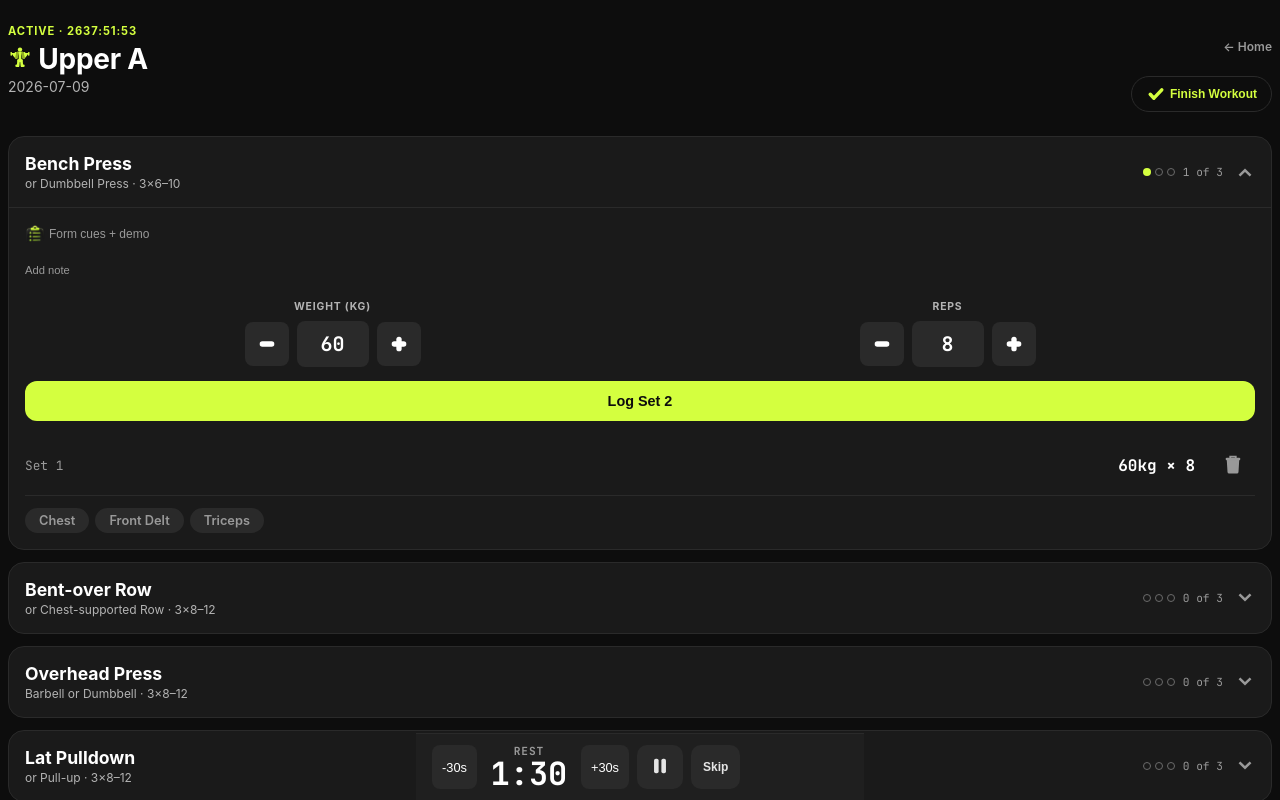
Workout page › renders a first-entry baseline quietly, with no PR fanfare
This screenshot has width=1280, height=800.
Expected: the text "Bench Press" is shown, [25,153,132,174]
Click the button "Finish Workout" at (1201, 94), box [1131,76,1272,112]
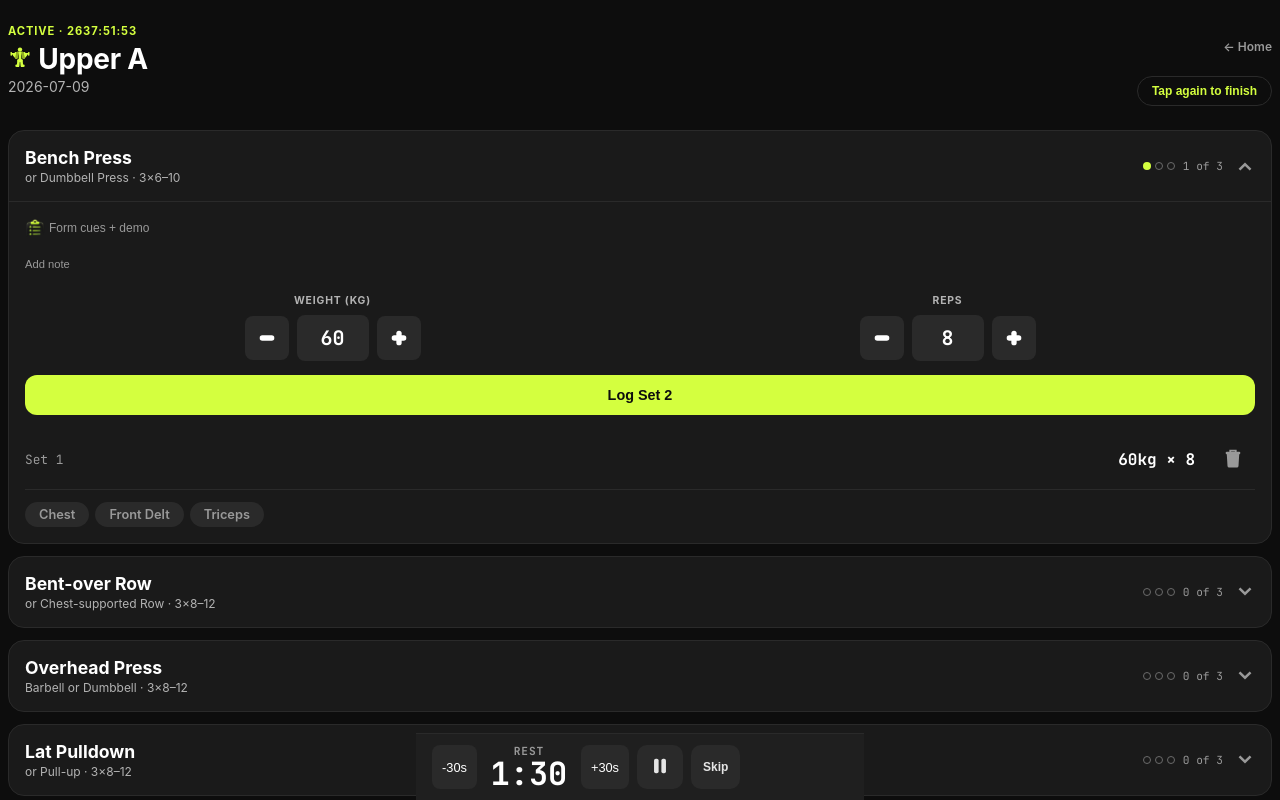
Click the button "Tap again to finish" at (1204, 91), box [1137,76,1272,106]
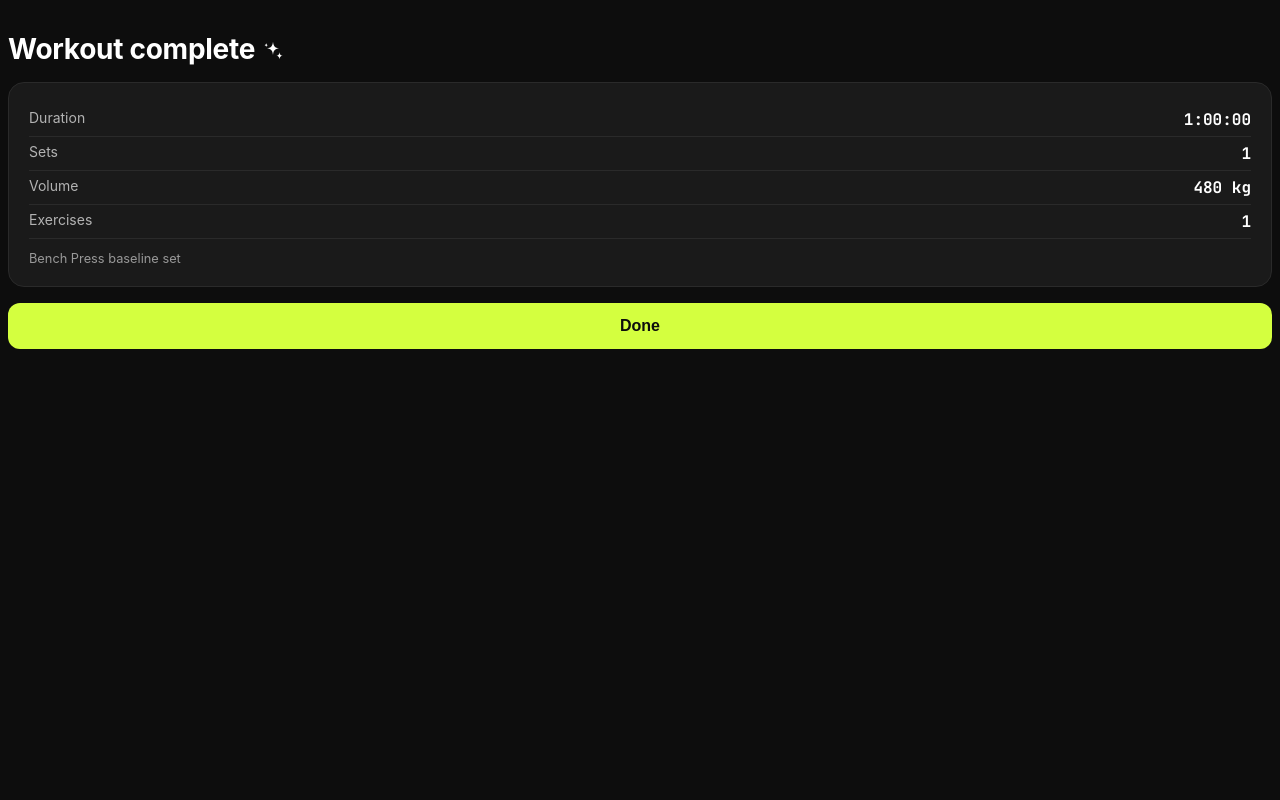
Expected: the heading "Workout complete" is shown, [8,32,285,66]
Expected: the button "Done" is shown, [8,303,1272,349]
